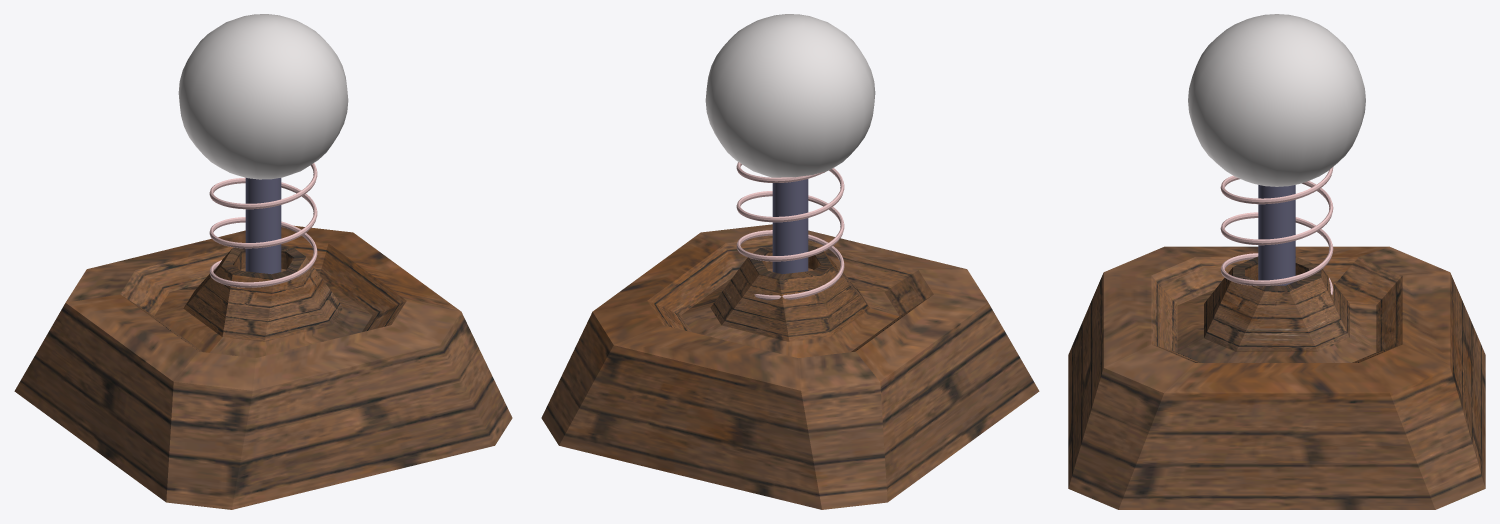
The model's file is gem_helix.fbx.
3 views of the same model, side by side, from view 1: azimuth 30°, elevation 25°; view 2: azimuth 150°, elevation 25°; view 3: azimuth 270°, elevation 25° (orthographic). The views are drawn at different scales.
Visible parts, largest first — view 1: smd_mesh348, pSphere1, pCylinder1, pHelix1; view 2: smd_mesh348, pSphere1, pHelix1, pCylinder1; view 3: smd_mesh348, pSphere1, pHelix1, pCylinder1.
Part boxes in pixels (bbox=[...]): smd_mesh348: bbox=[14, 225, 512, 509]; pSphere1: bbox=[178, 14, 348, 179]; pCylinder1: bbox=[245, 178, 281, 274]; pHelix1: bbox=[209, 163, 317, 287]; smd_mesh348: bbox=[541, 224, 1039, 509]; pSphere1: bbox=[705, 14, 875, 177]; pHelix1: bbox=[736, 162, 844, 300]; pCylinder1: bbox=[772, 179, 808, 274]; smd_mesh348: bbox=[1068, 246, 1485, 509]; pSphere1: bbox=[1188, 14, 1365, 186]; pHelix1: bbox=[1220, 167, 1333, 294]; pCylinder1: bbox=[1258, 185, 1295, 285].
Bounding box in the file's own units: 256 × 270 × 256.
